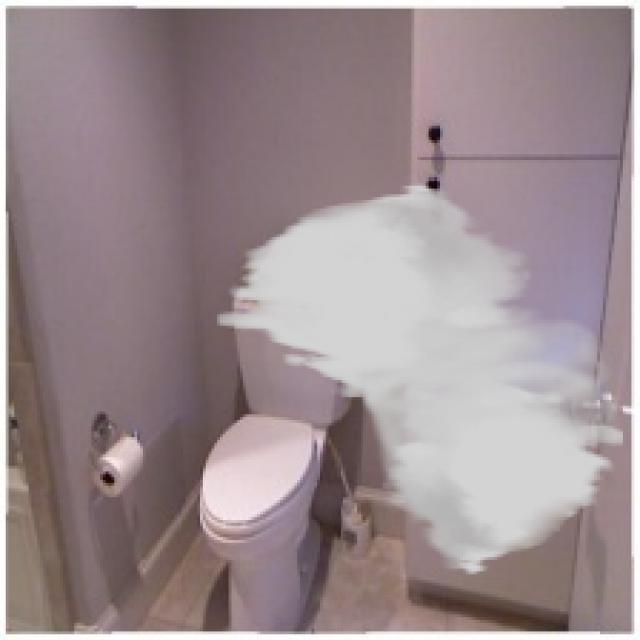Smoke: (217, 182, 626, 578)
